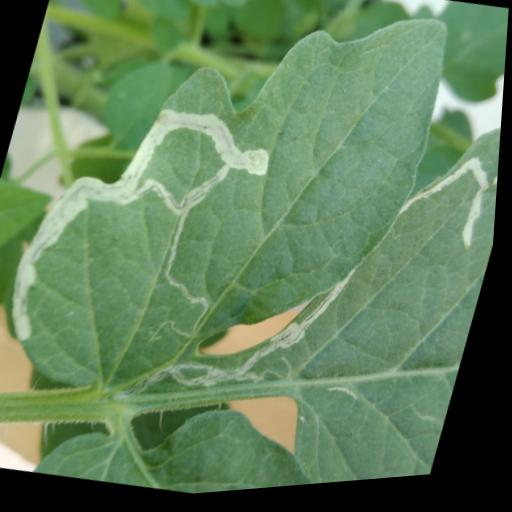Leaf_Miner: (0, 0, 466, 452)
